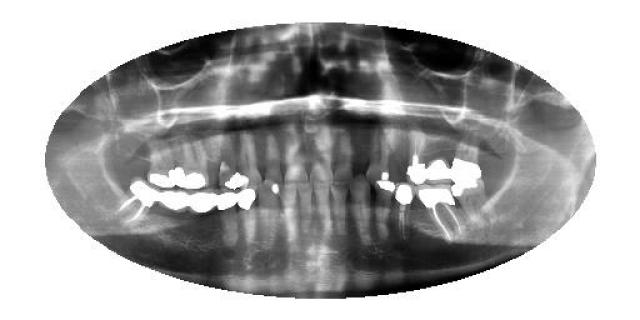Fillings: (451, 180, 499, 226), (174, 132, 208, 188), (451, 126, 484, 180), (147, 132, 175, 188), (371, 180, 395, 242), (366, 128, 392, 182), (238, 130, 262, 188), (238, 188, 258, 252), (218, 188, 238, 252), (219, 132, 239, 188), (156, 187, 190, 215), (190, 188, 220, 214), (427, 155, 452, 184)
Implant: (416, 185, 464, 244), (115, 177, 157, 225), (406, 129, 426, 185), (395, 182, 415, 238)
